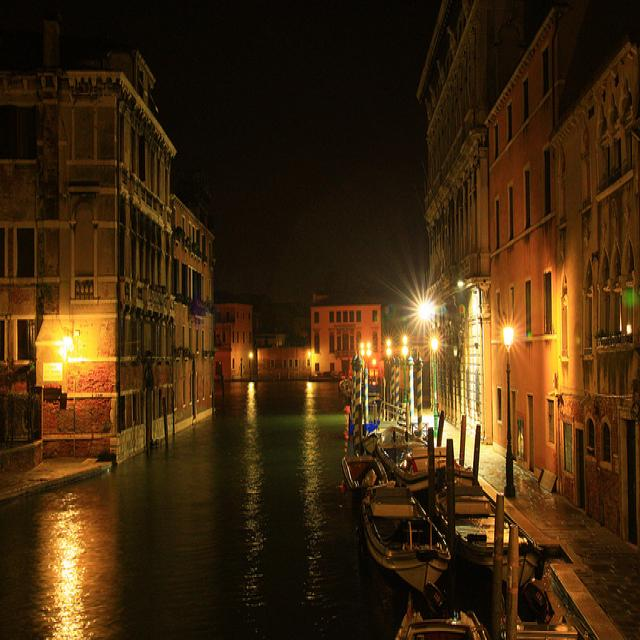Boat: (436, 439, 538, 607), (358, 471, 442, 611), (340, 407, 419, 516), (399, 586, 510, 640)
